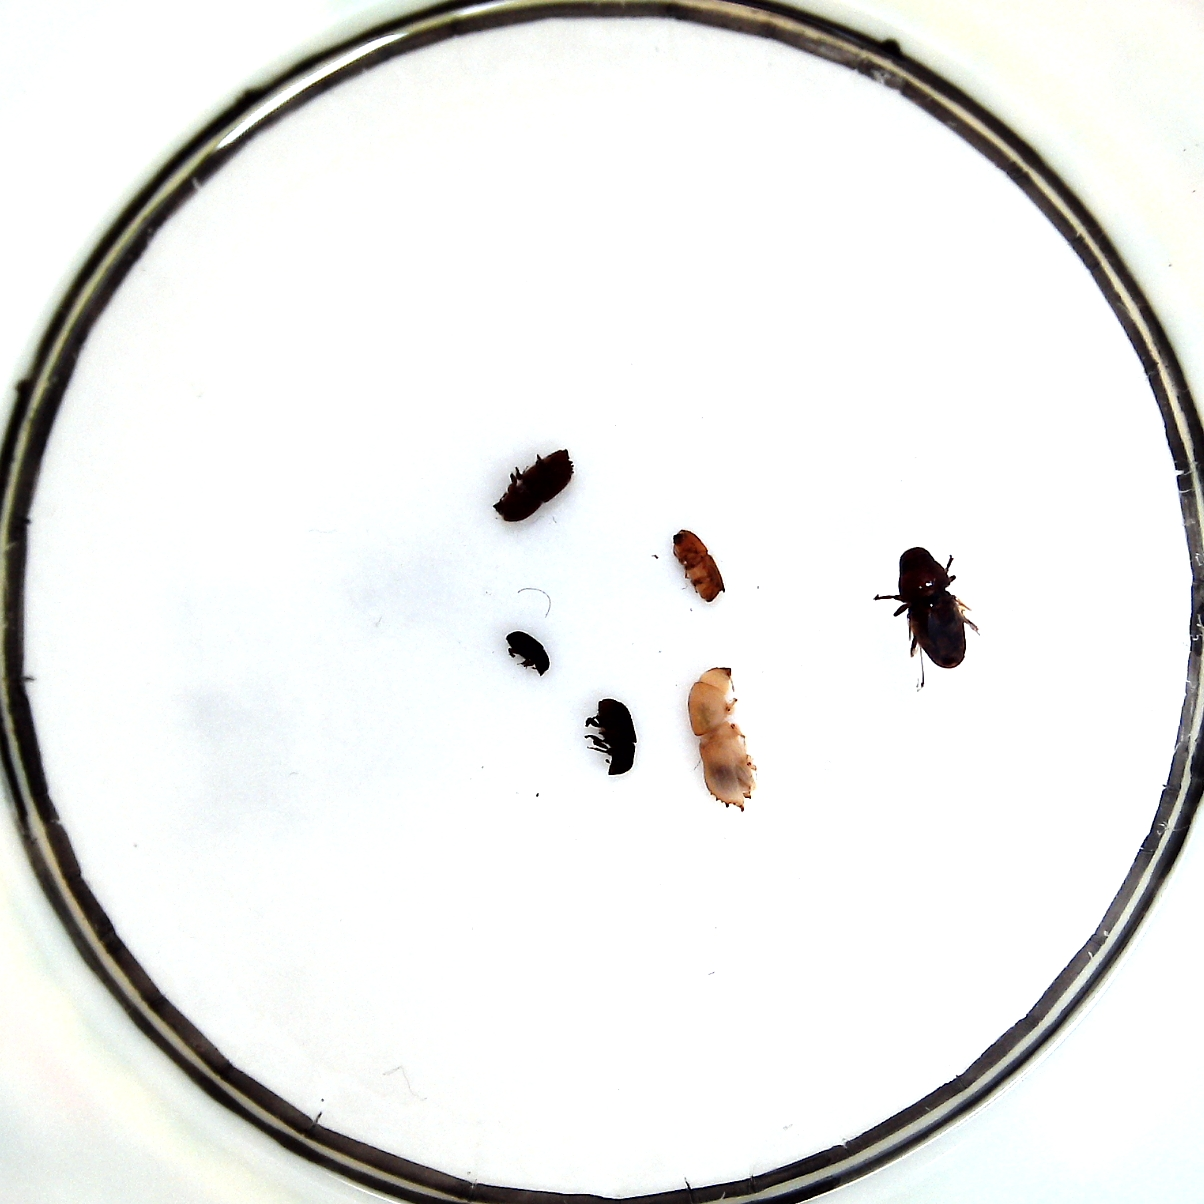Boerner: (687, 666, 757, 811)
acuminatus: (507, 630, 550, 678)
armandi: (596, 698, 637, 776)
coleoptera: (899, 547, 966, 669)
linnaeus: (493, 448, 574, 523), (671, 530, 725, 603)
